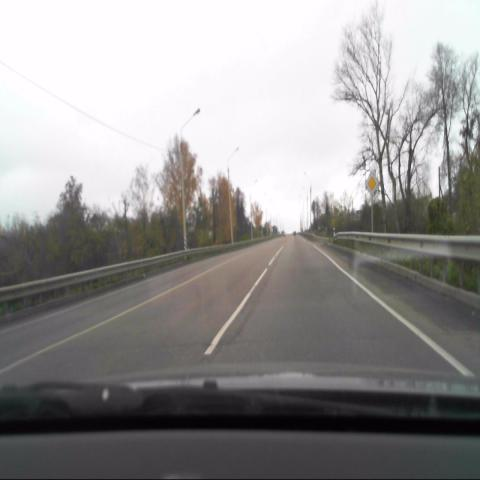2_1: (364, 172, 378, 195)
